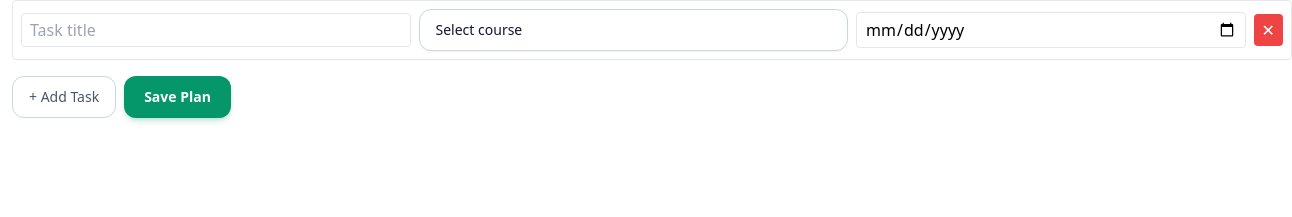
Test: StudyPlanForm › adds a new task row when the Add Task button is clicked (FR12)
The image size is (1292, 217).
Click the button "+ Add Task".
click(64, 97)  # box [12, 76, 116, 118]
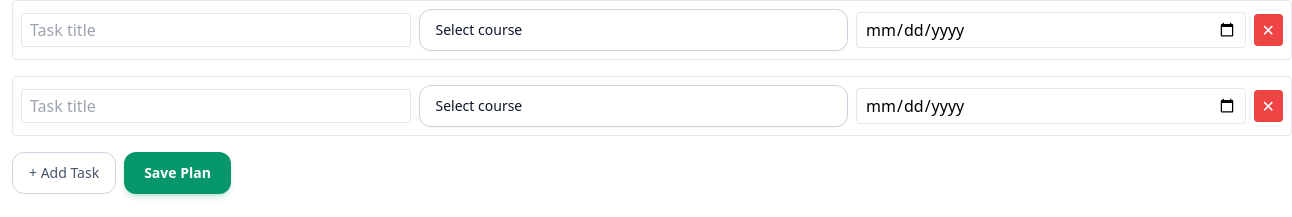
Expected: the number of fields with placeholder "Task title" is 2, [21, 13, 410, 47]; [21, 89, 410, 123]
